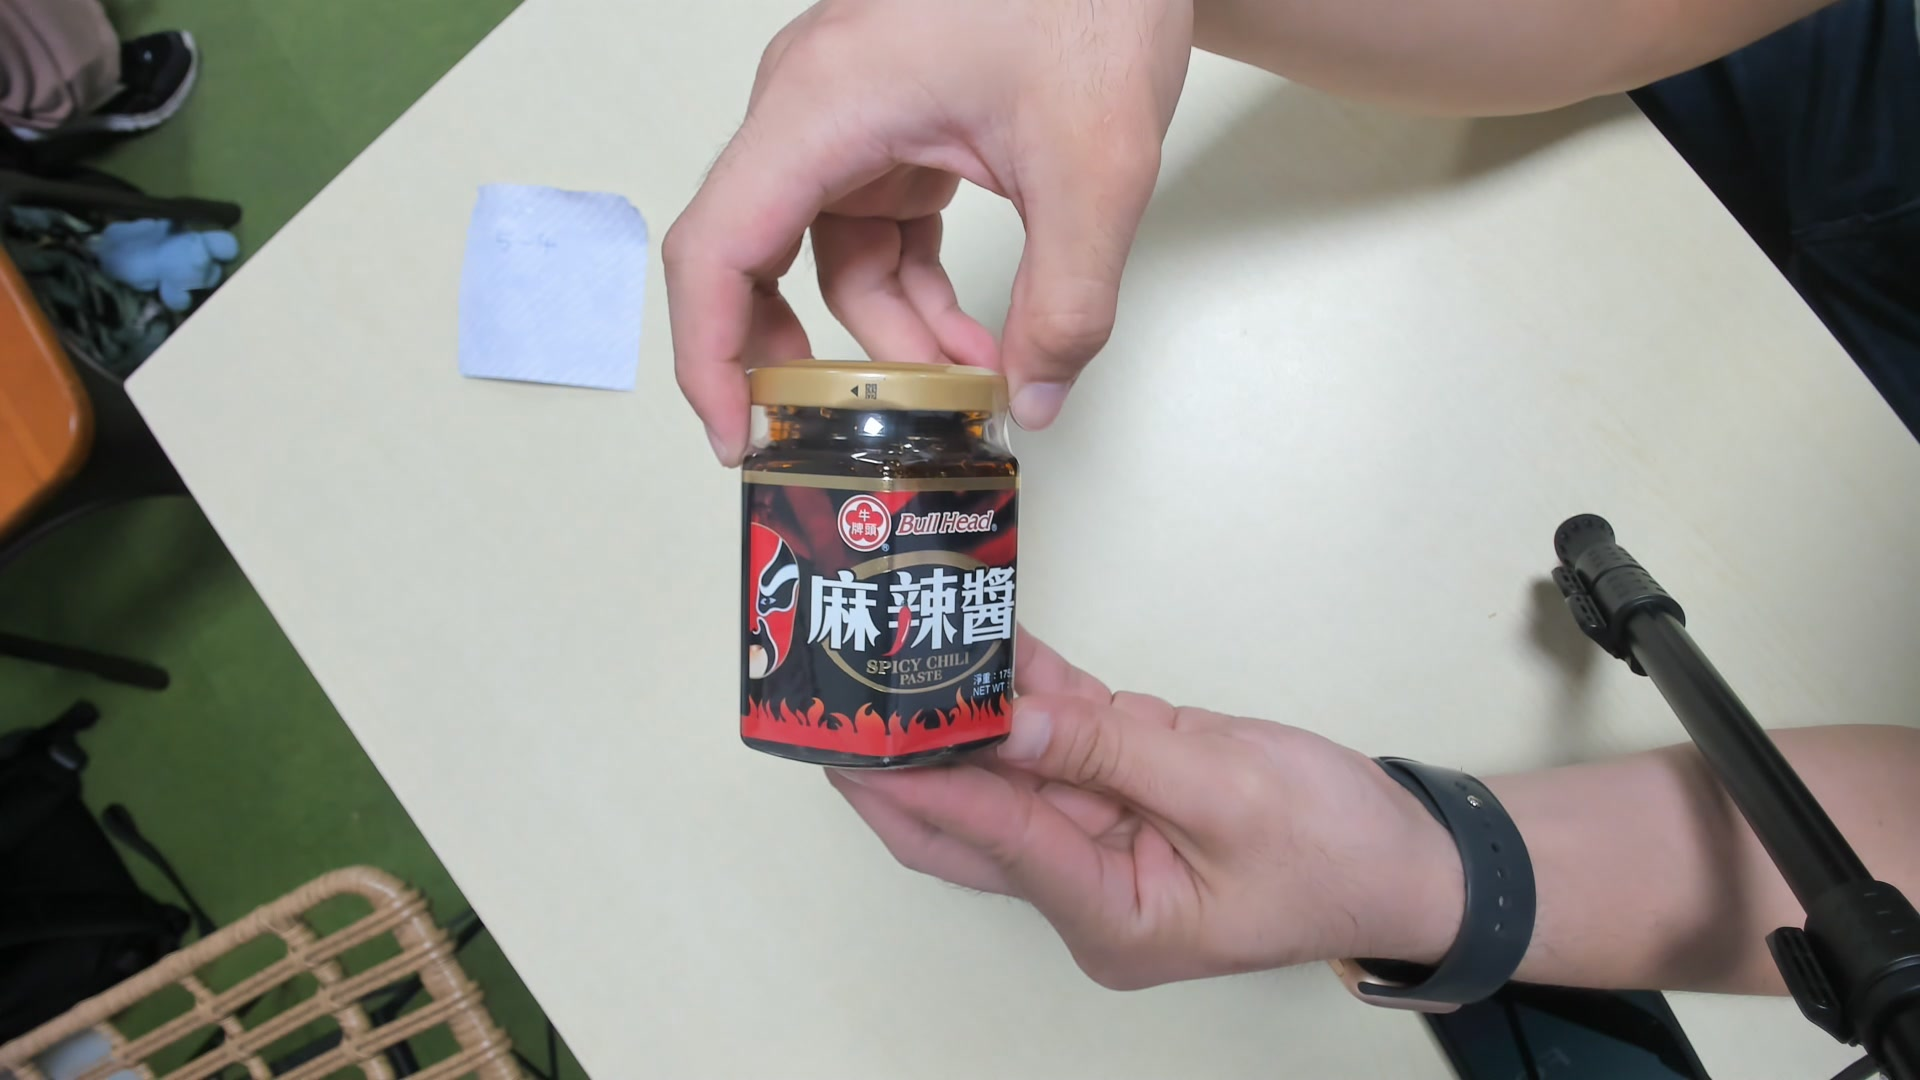OtherSauceDressing_100-199g_NonHalal_NonHealthy: (737, 356, 1015, 778)
